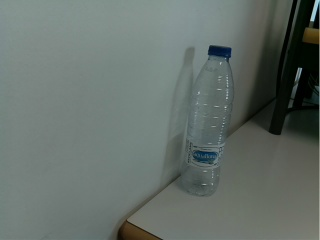botella plastico: (179, 42, 239, 199)
